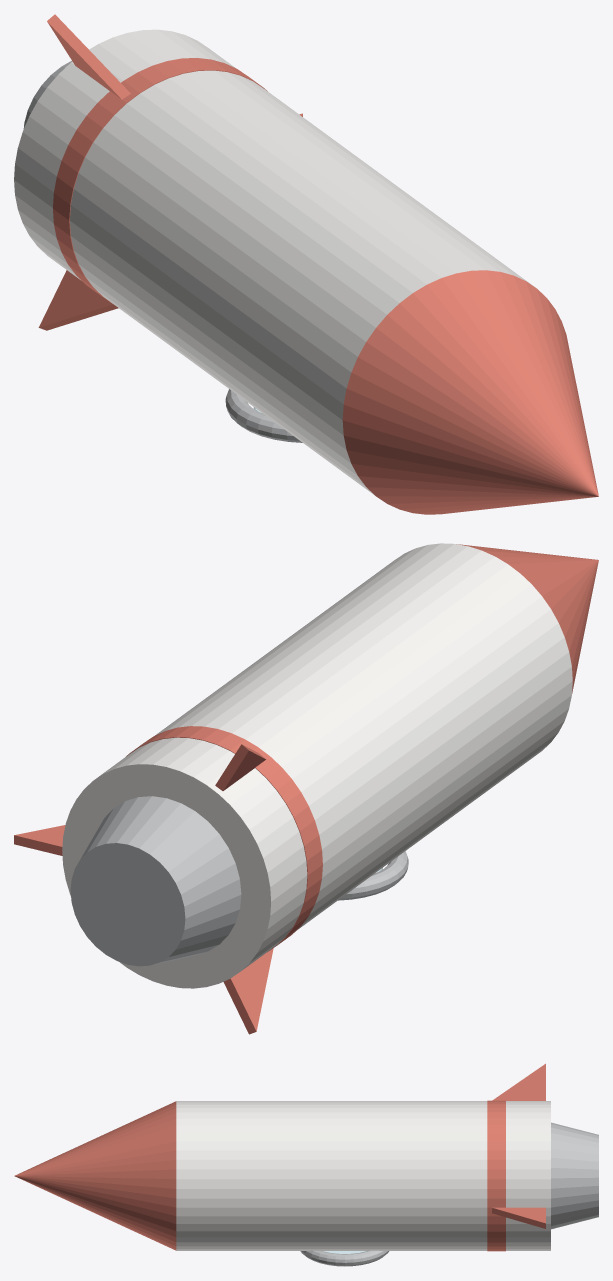
The model's file is rocket.glb.
The picture shows the model from 3 angles, top to bottom: view 1: azimuth 30°, elevation 25°; view 2: azimuth 150°, elevation 25°; view 3: azimuth 270°, elevation 25°; orthographic projection. The views are drawn at different scales.
Parts seen in each view (by area): view 1: body_1, nose_2, band_3, fin2_6, fin1_5, porthole_ring_7; view 2: body_1, nozzle_0, nose_2, band_3, fin2_6, porthole_ring_7, fin1_5, fin0_4; view 3: body_1, nose_2, nozzle_0, band_3, fin1_5, porthole_ring_7, fin0_4.
Part boxes in pixels (bbox=[...]): body_1: bbox=[14, 29, 534, 495]; nose_2: bbox=[342, 270, 598, 514]; band_3: bbox=[53, 58, 267, 304]; fin2_6: bbox=[38, 270, 118, 330]; fin1_5: bbox=[47, 14, 130, 99]; porthole_ring_7: bbox=[225, 389, 302, 442]; body_1: bbox=[62, 543, 572, 988]; nozzle_0: bbox=[70, 796, 241, 966]; nose_2: bbox=[456, 544, 598, 693]; band_3: bbox=[126, 726, 322, 951]; fin2_6: bbox=[223, 948, 273, 1034]; porthole_ring_7: bbox=[338, 851, 408, 900]; fin1_5: bbox=[215, 744, 265, 790]; fin0_4: bbox=[14, 825, 65, 855]; body_1: bbox=[176, 1101, 550, 1250]; nose_2: bbox=[14, 1101, 176, 1250]; nozzle_0: bbox=[551, 1122, 598, 1229]; band_3: bbox=[487, 1100, 505, 1251]; fin1_5: bbox=[492, 1063, 545, 1100]; porthole_ring_7: bbox=[300, 1250, 389, 1266]; fin0_4: bbox=[492, 1207, 545, 1228].
Size of the model in its own units: 0.1503 by 0.1584 by 0.4685.
